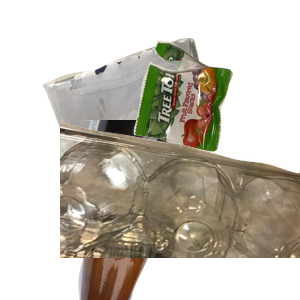glass: (60, 120, 300, 300)
paper: (40, 35, 249, 187)
plastic: (60, 120, 300, 300)
trash: (131, 38, 300, 182)
